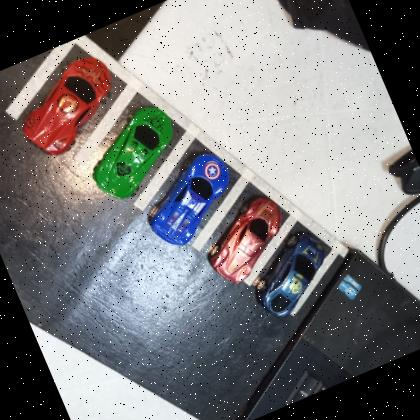Car: (3, 47, 134, 166), (74, 98, 194, 209), (131, 146, 250, 256), (194, 190, 302, 291), (240, 225, 346, 325)
